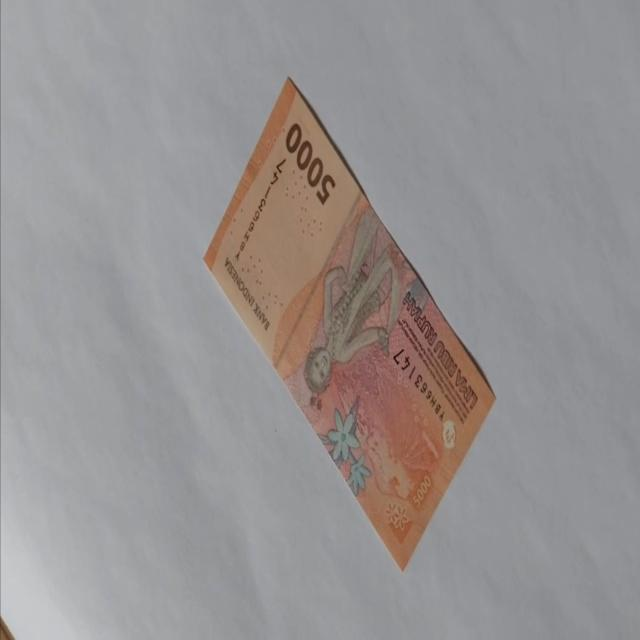lima ribu rupiah: (202, 74, 498, 572)
